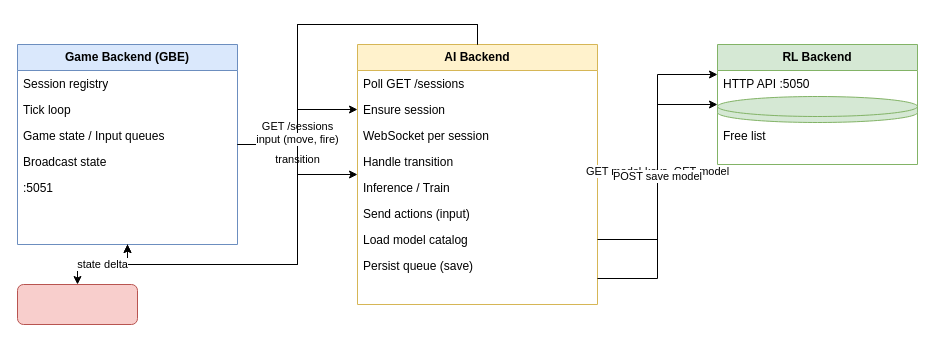
This 935x342 diagram has some shape labels left out. Here are the shapes that lost their labels. From the top down, the centre of each, then its label:
(817,109): rl-models.db
(77,304): Game clients
